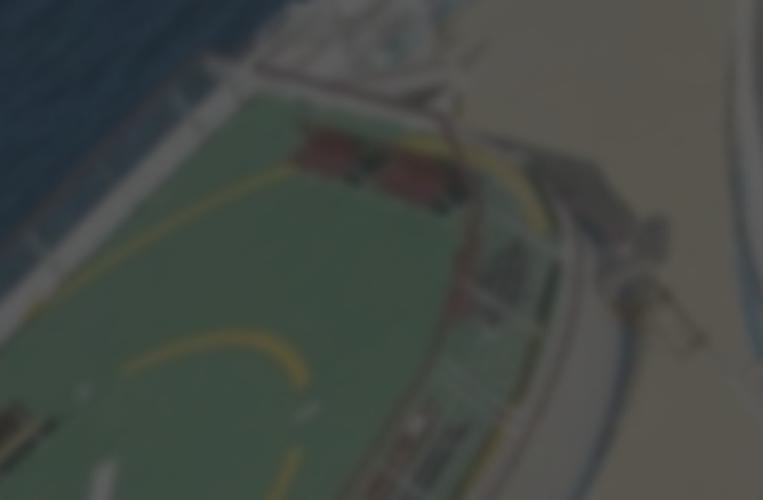Apron: (16, 303, 346, 500)
